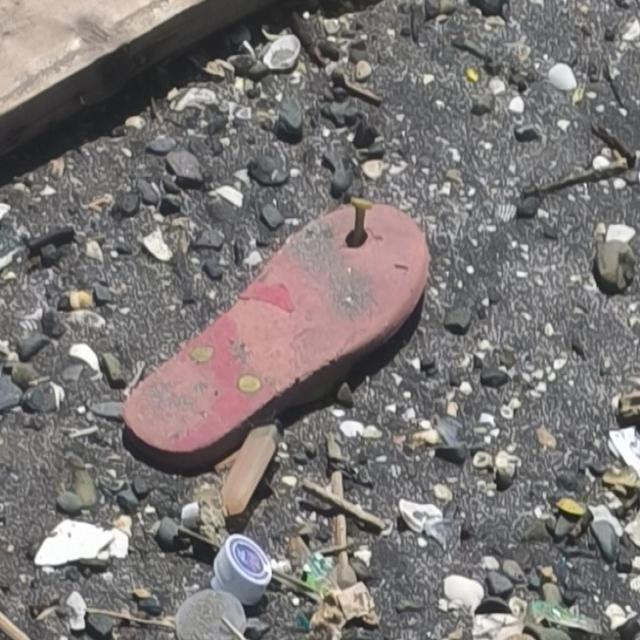litter: (121, 197, 431, 455), (212, 531, 273, 606)
